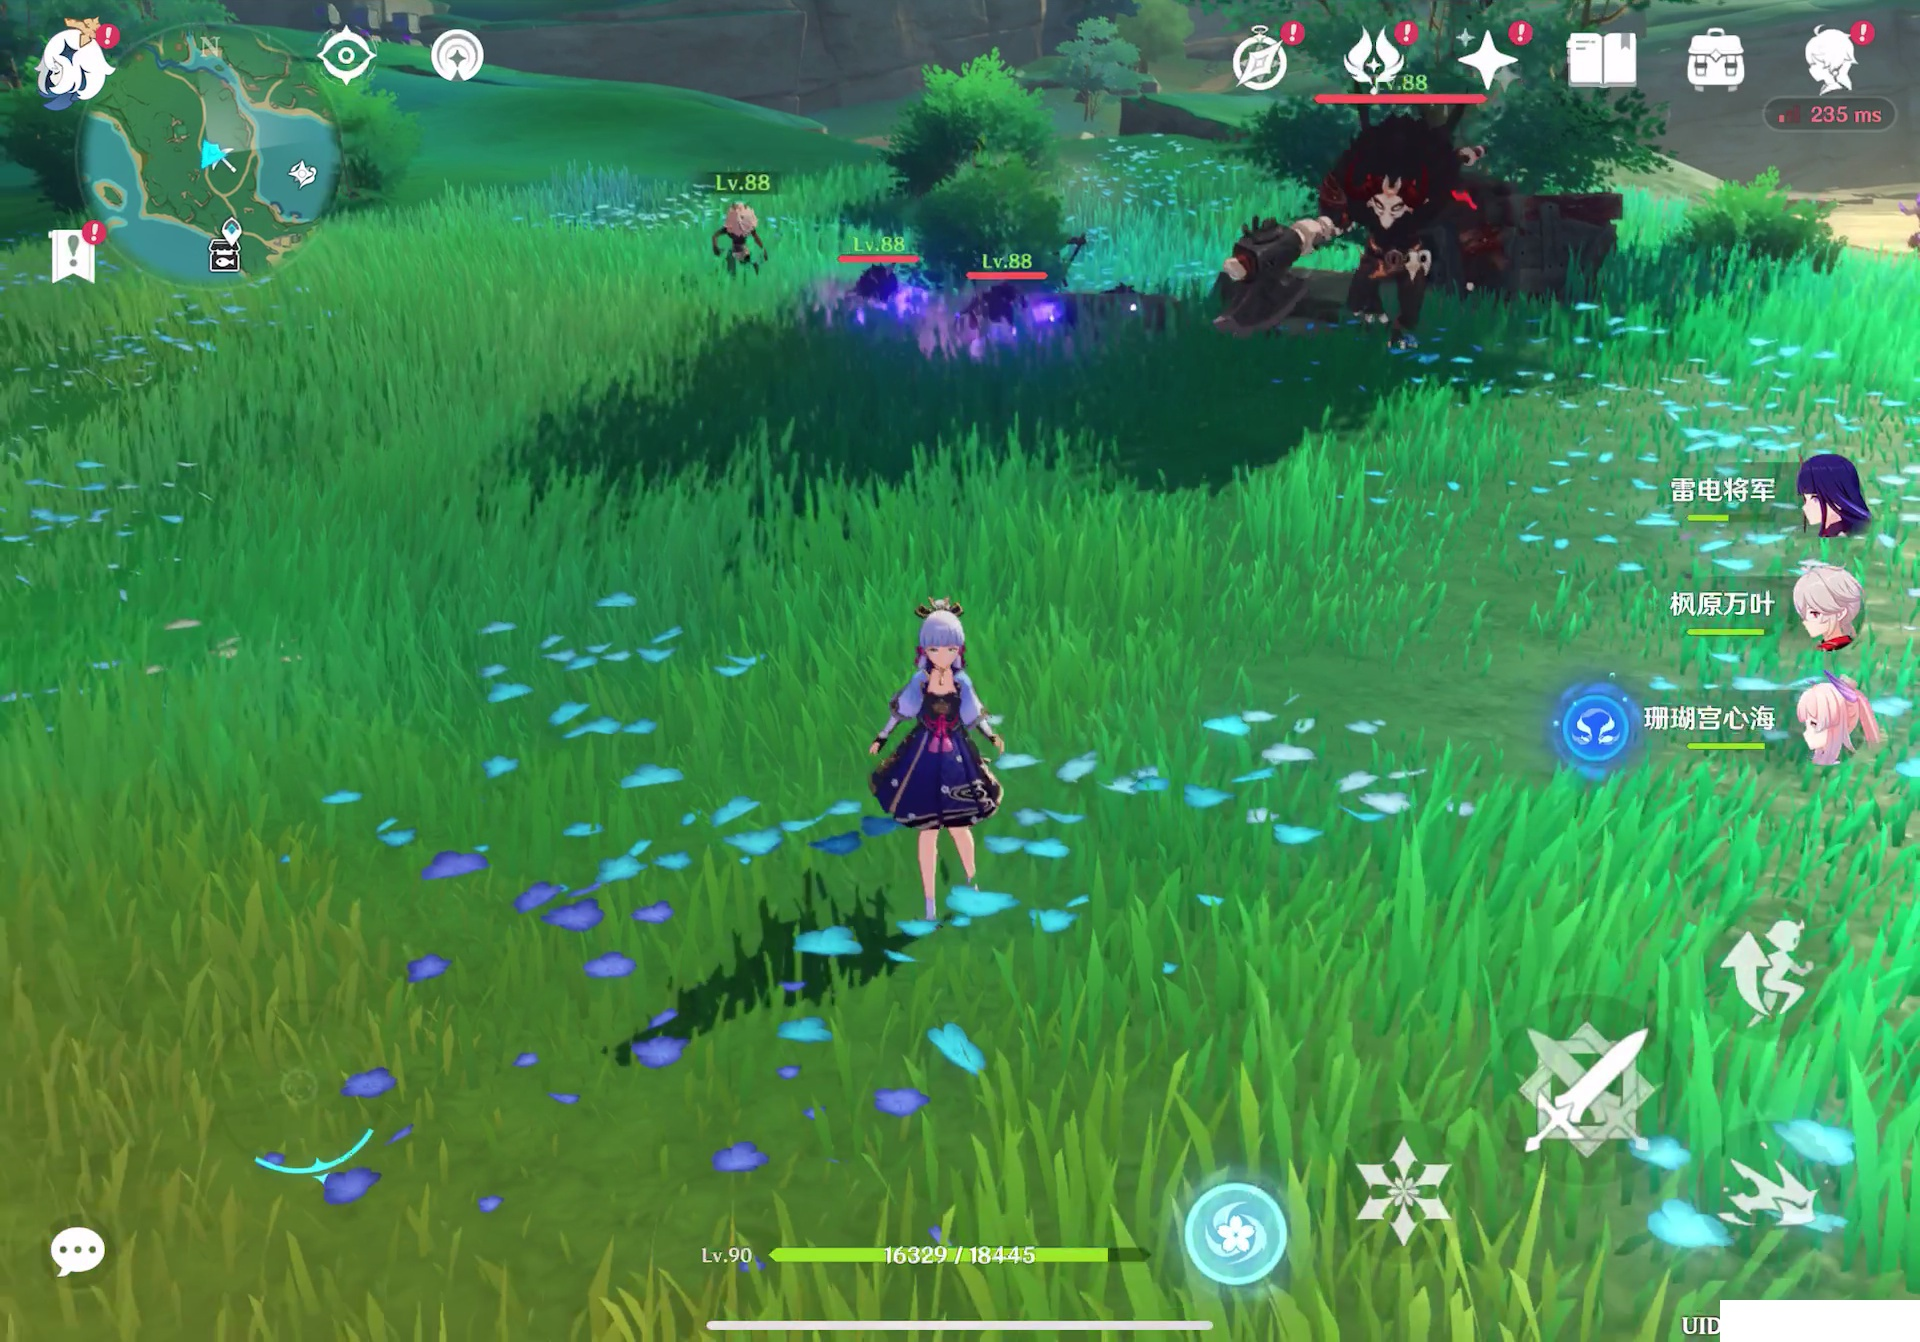NTR: (1215, 104, 1506, 349)
丘丘人: (942, 284, 1080, 360), (818, 260, 929, 322), (694, 197, 778, 279)
神里绫龟: (861, 586, 1023, 910)
